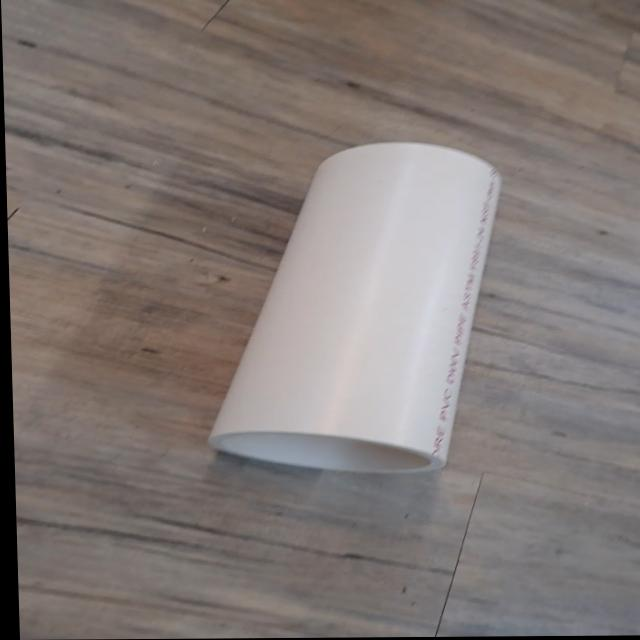CORAL: (124, 131, 533, 494)
